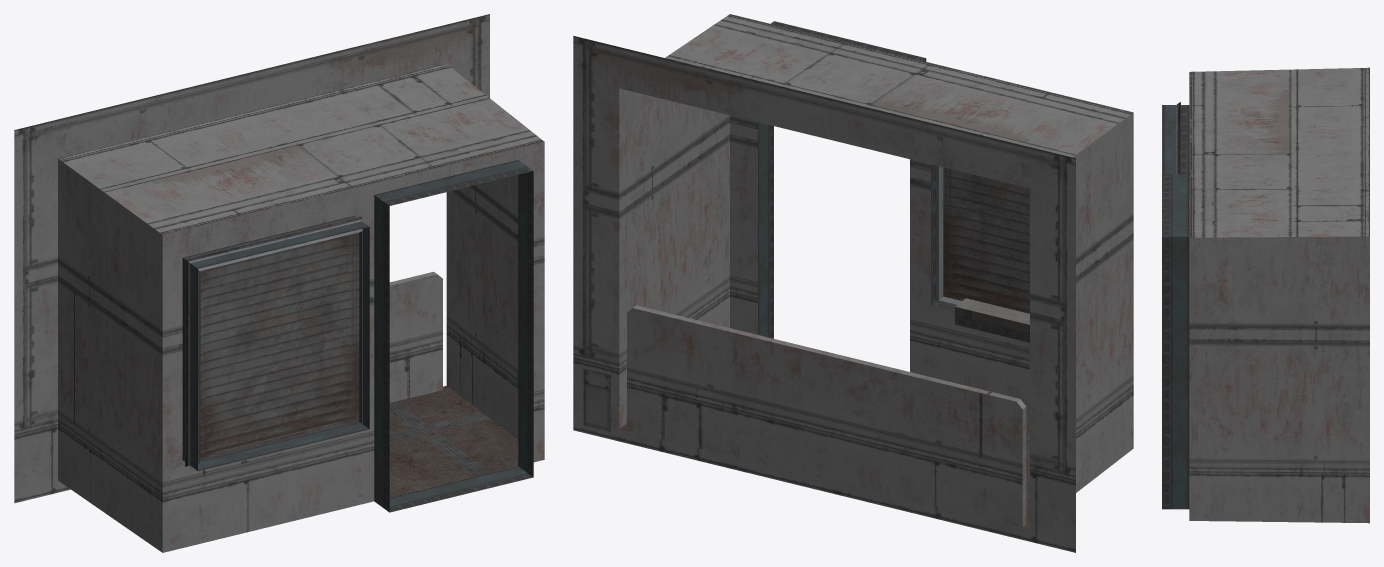
File: ARC0910210.fbx
3 views of the same model, side by side, from view 1: azimuth 30°, elevation 25°; view 2: azimuth 150°, elevation 25°; view 3: azimuth 270°, elevation 25° (orthographic). The views are drawn at different scales.
Visible parts, largest first — view 1: smARC0910210; view 2: smARC0910210; view 3: smARC0910210.
Part boxes in pixels (bbox=[...]): smARC0910210: bbox=[14, 14, 544, 552]; smARC0910210: bbox=[573, 14, 1133, 552]; smARC0910210: bbox=[1162, 67, 1369, 523].
Size of the model in its own units: 400 by 300 by 170.
1 material, 1 textured.
